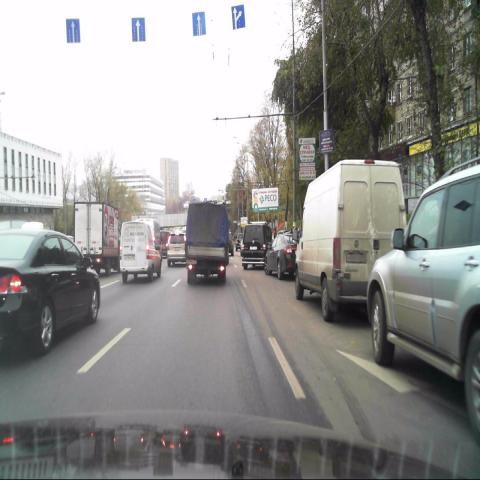5_15_2: (192, 12, 206, 34)
